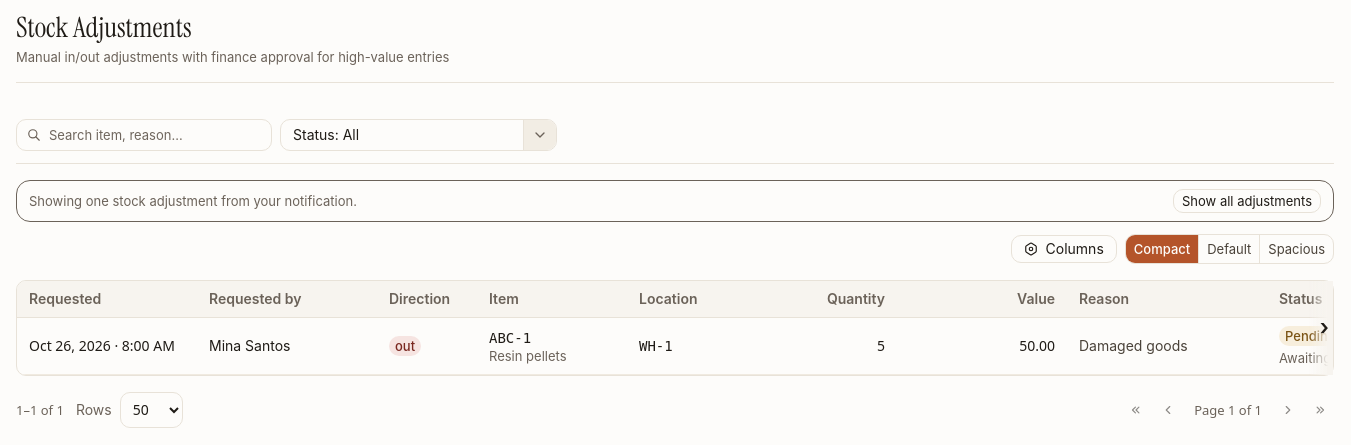
Test: loads the exact adjustment from a notification link and can return to the full list
Expected: the text "ABC-1" is shown, [489,330,531,346]
Click the button "Show all adjustments".
click(1247, 201)  # box [1173,189,1321,213]
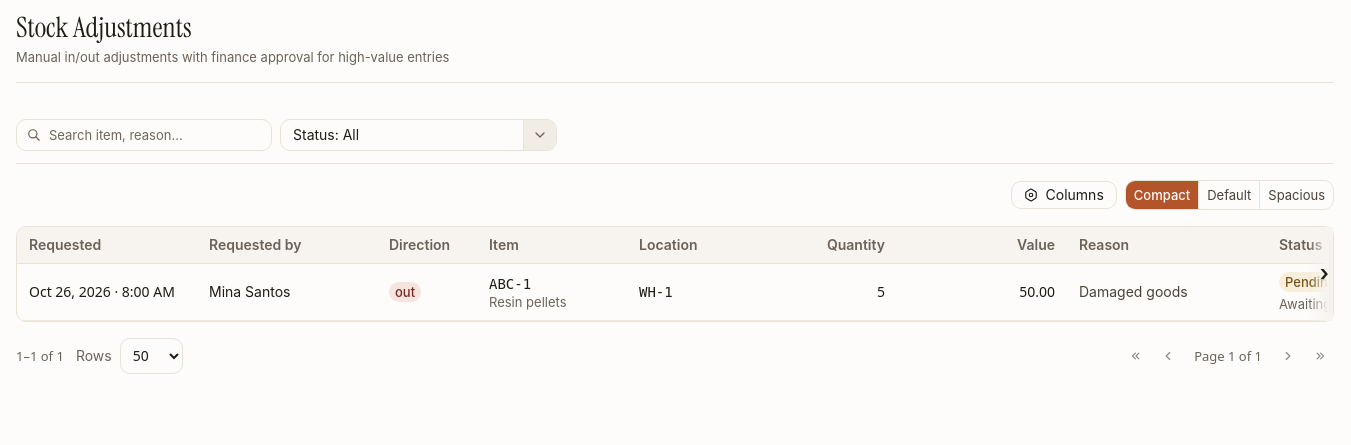
Expected: the button "Show all adjustments" is gone
